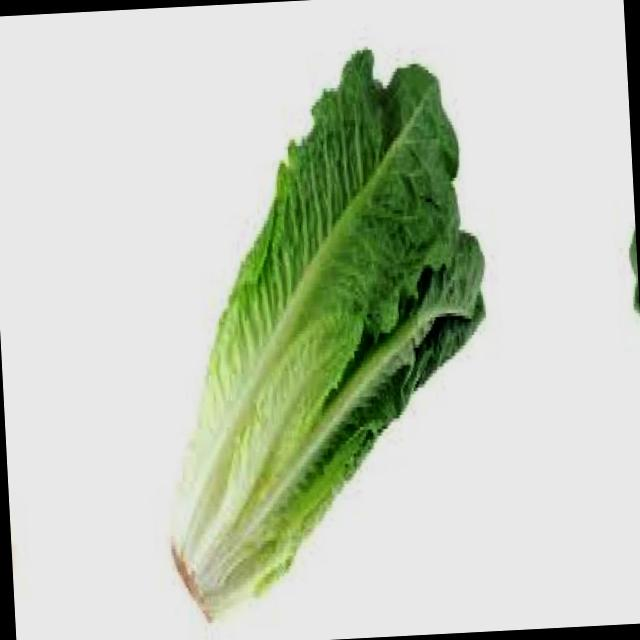healthy: (142, 34, 512, 628), (608, 26, 640, 603), (0, 60, 19, 636)
